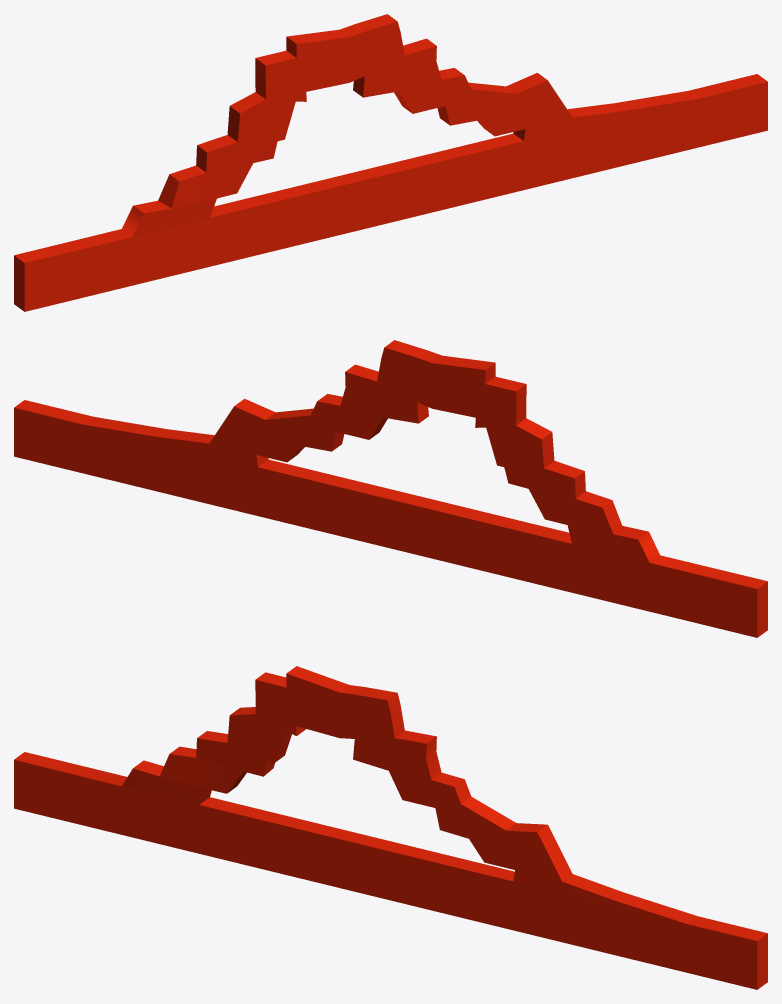
File: Redone Land Module 2.fbx
3 views of the same model, one above another, from view 1: azimuth 30°, elevation 25°; view 2: azimuth 150°, elevation 25°; view 3: azimuth 330°, elevation 25° (orthographic).
Parts seen in each view (by area): view 1: Land_Module_1; view 2: Land_Module_1; view 3: Land_Module_1.
Part boxes in pixels (box(x1,y1,x2,y2)): Land_Module_1: box(14, 14, 767, 311); Land_Module_1: box(14, 340, 767, 637); Land_Module_1: box(14, 666, 767, 989).
Size of the model in its own units: 160 by 41.4 by 4.22.
